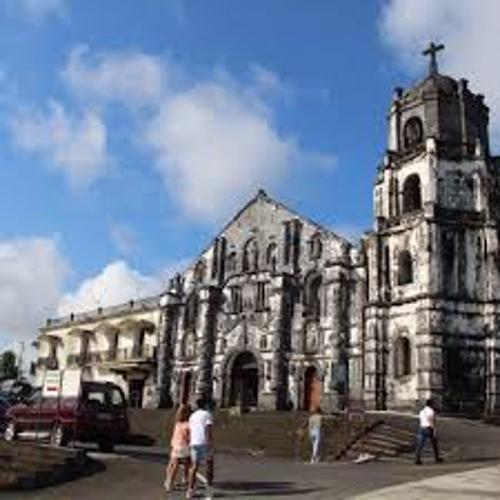Daraga Church: (162, 30, 500, 419)
